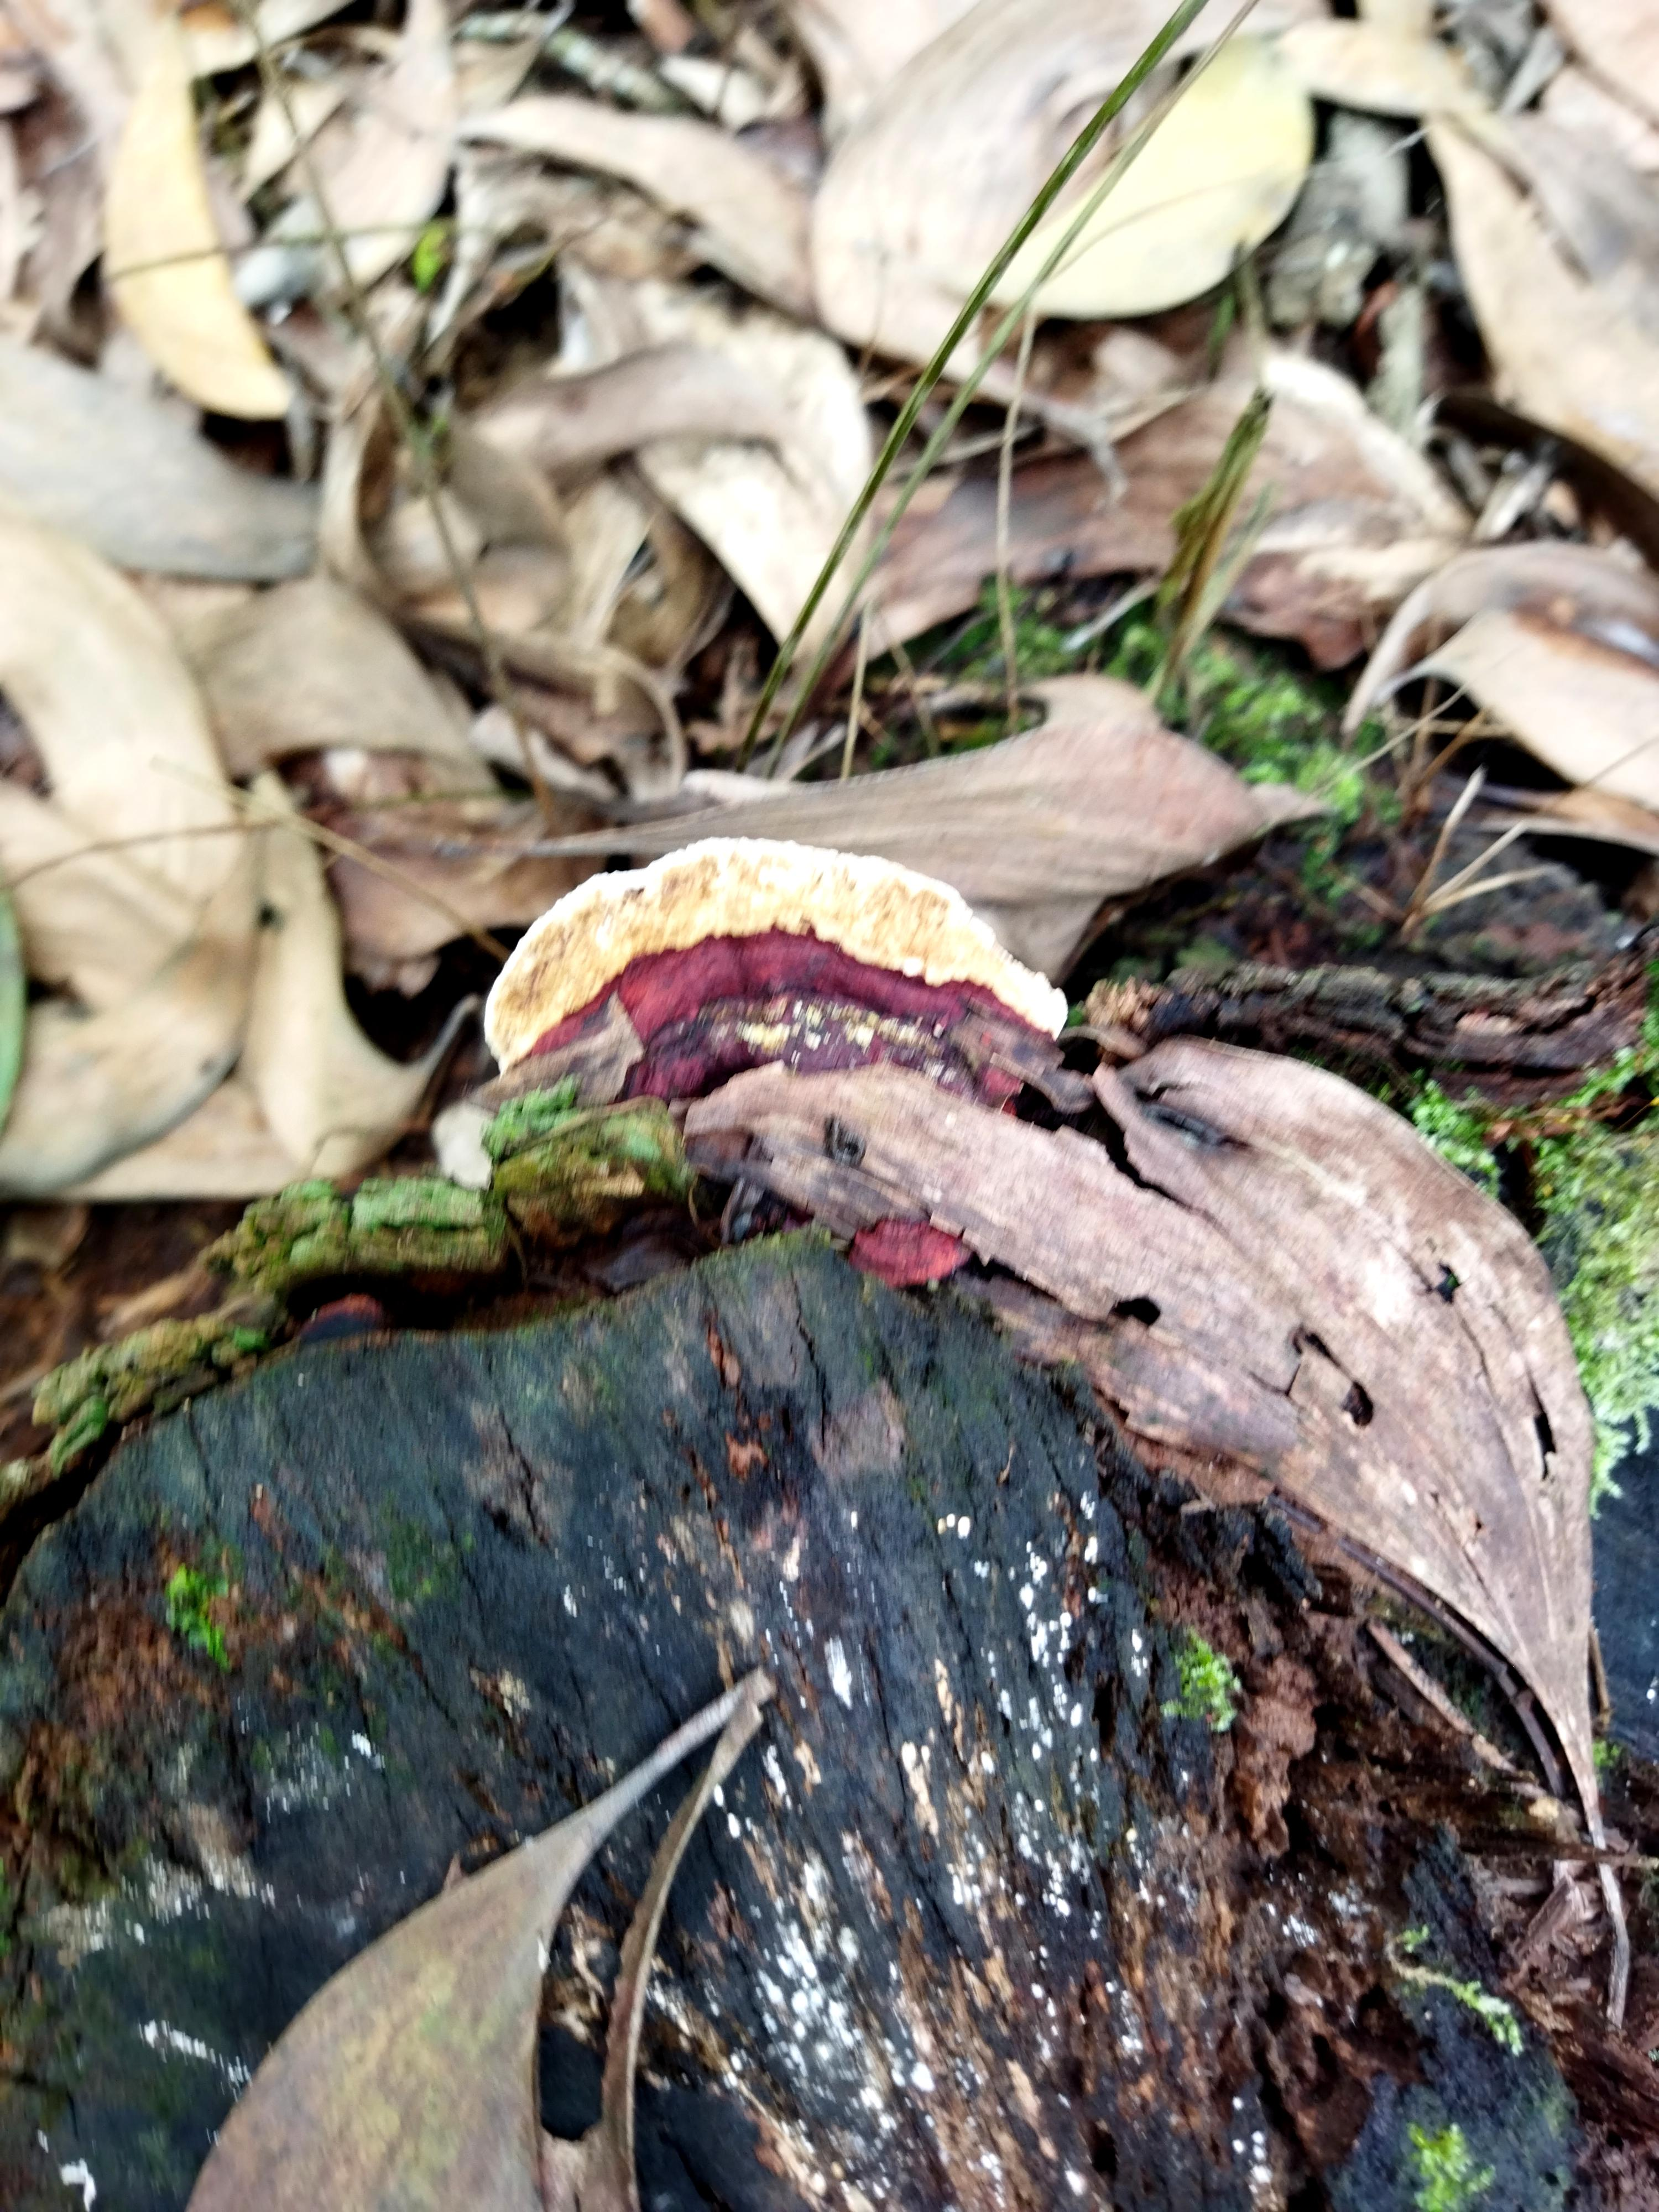Ganoderma - Fruit Body: (427, 808, 1080, 1169)
